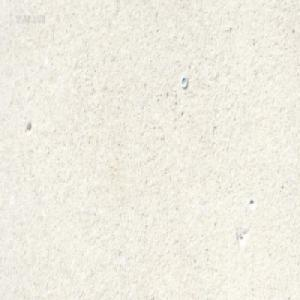Washer: (180, 74, 187, 89)
